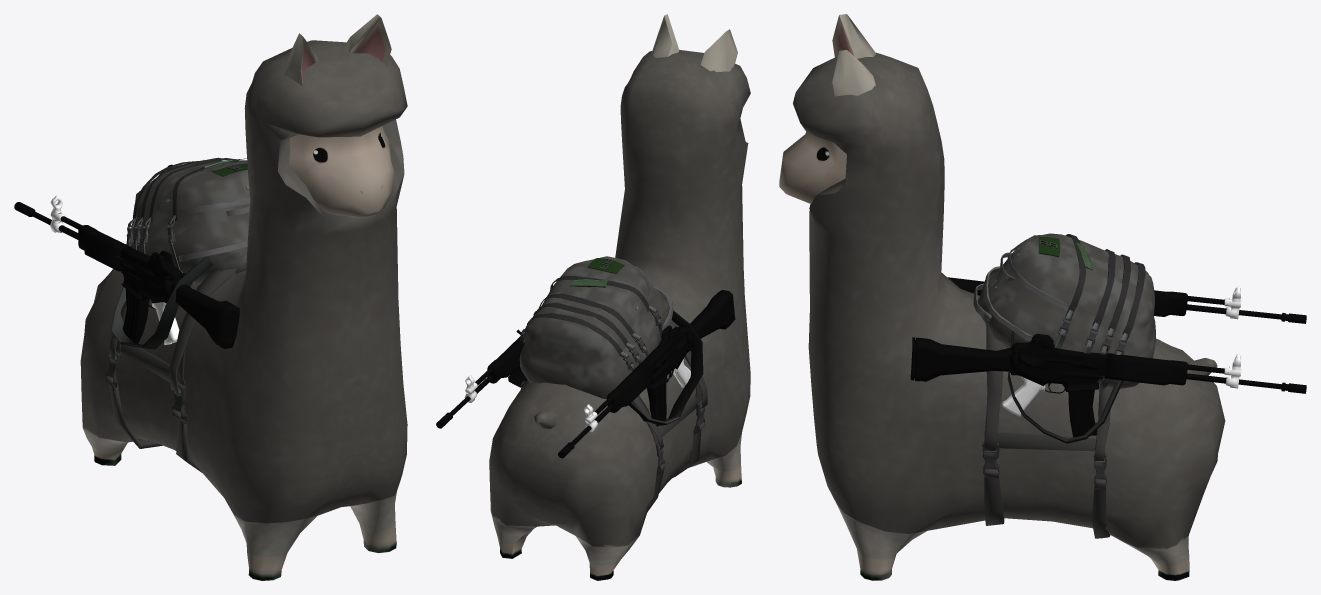
3 renders of one model, left to right at view 1: azimuth 30°, elevation 25°; view 2: azimuth 150°, elevation 25°; view 3: azimuth 270°, elevation 25°, orthographic. The views are drawn at different scales.
Parts seen in each view (by area): view 1: Cube.004, Zizzize, Cube.031; view 2: Cube.004, Zizzize, Cube.031, Cube.046; view 3: Cube.004, Zizzize, Cube.046, Cube.031.
Part boxes in pixels (x1,y1,x2,y2): Cube.004: [80, 14, 407, 580]; Zizzize: [111, 157, 250, 349]; Cube.031: [14, 195, 239, 348]; Cube.004: [489, 14, 750, 580]; Zizzize: [508, 256, 703, 425]; Cube.031: [558, 290, 735, 458]; Cube.046: [436, 329, 526, 428]; Cube.004: [779, 14, 1225, 580]; Zizzize: [973, 233, 1155, 443]; Cube.046: [910, 334, 1306, 437]; Cube.031: [947, 277, 1306, 323].
Bounding box in the file's own units: 186 × 464 × 429.
